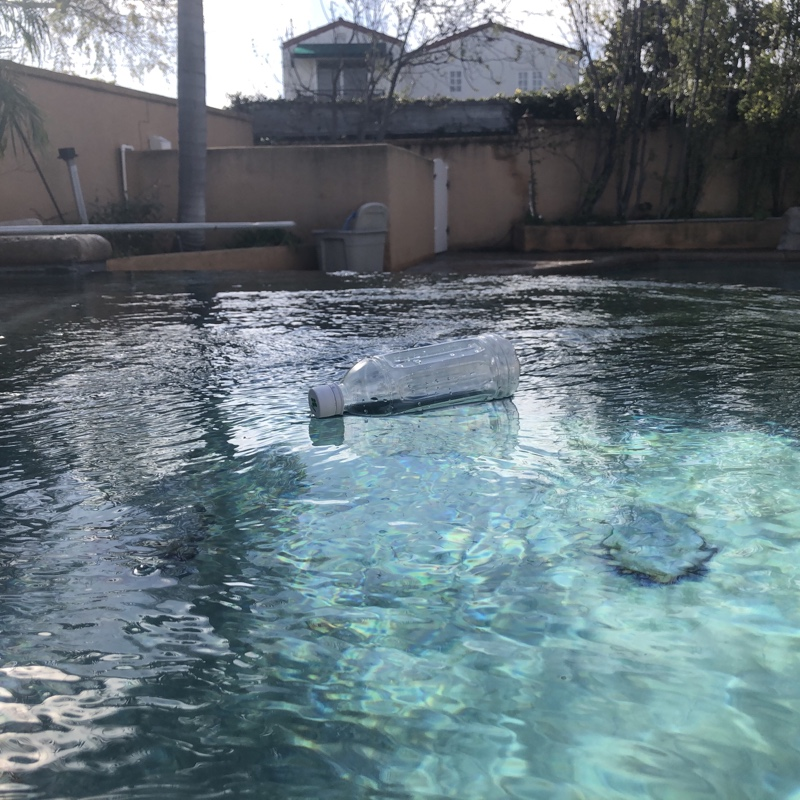Plastic Bottle: (306, 331, 523, 420)
